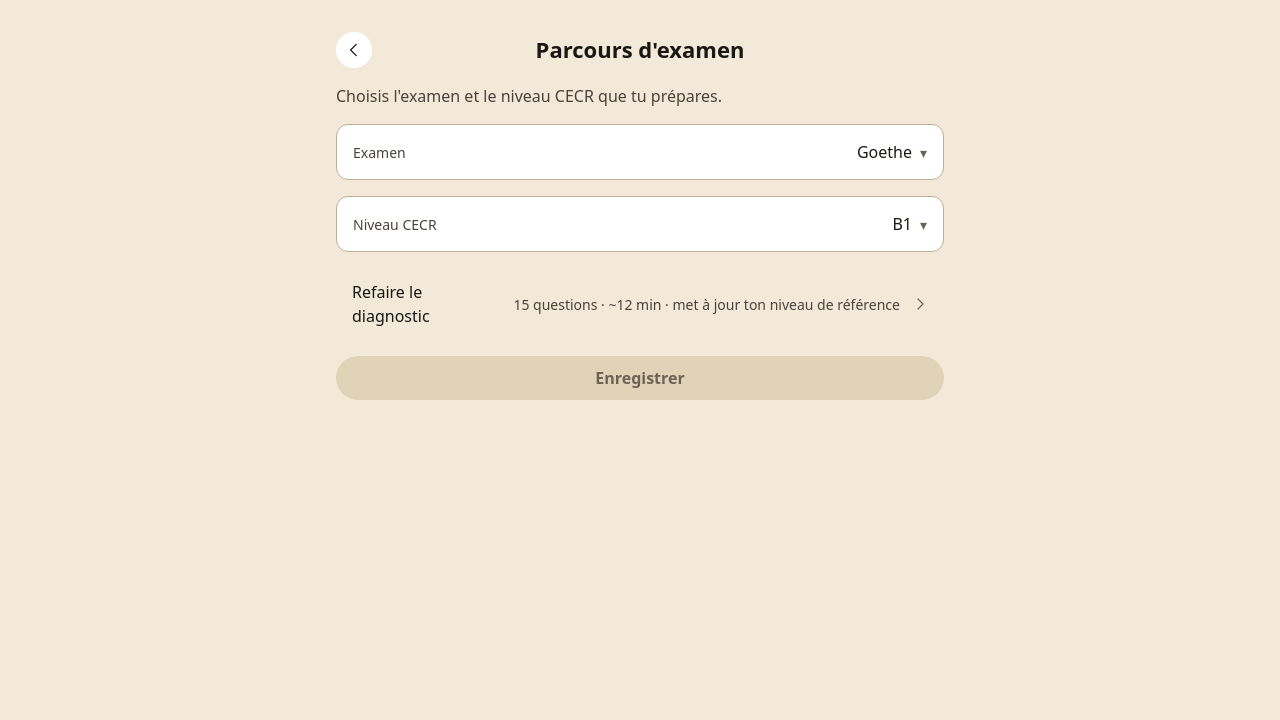
Test case: ExamTrackScreen (S11.6) › gates non-beta levels with the coming-soon caveat
The image size is (1280, 720).
Click the button with test id "settings-exam-level-trigger" at [395, 224], box x1=336 y1=196 x2=944 y2=252
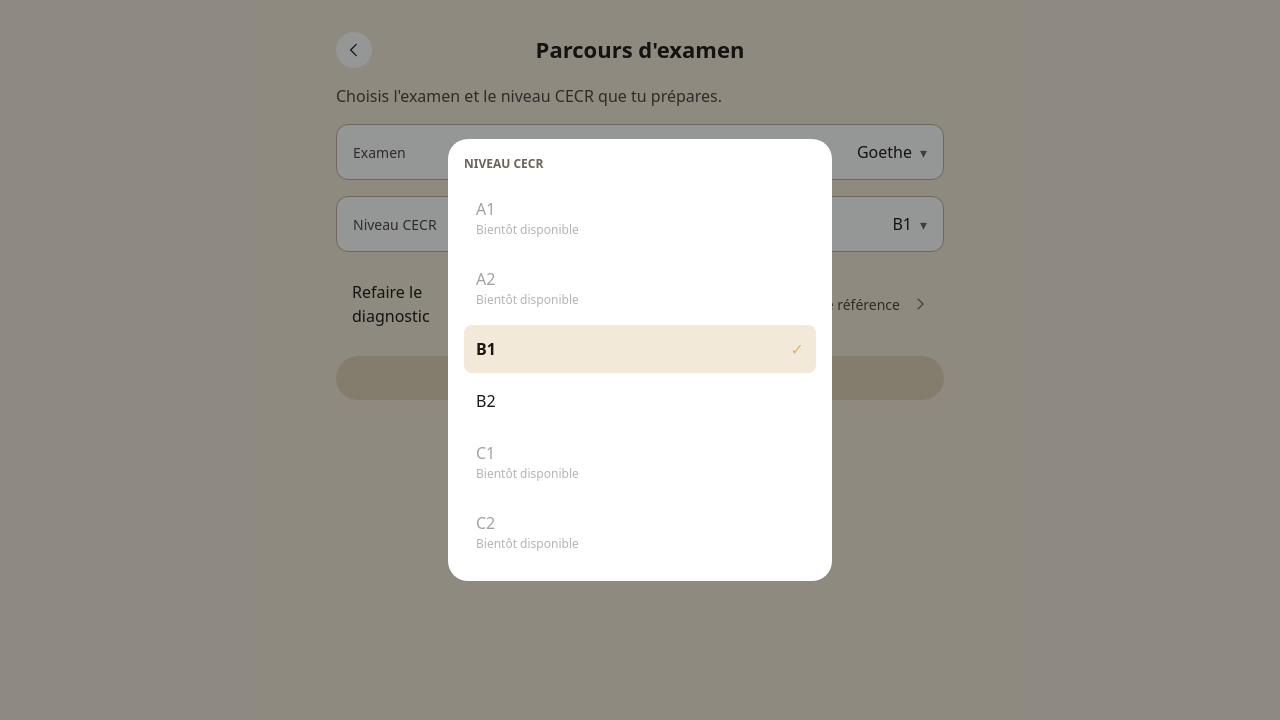
Now the radio button with test id "settings-exam-level-c1" is disabled, box x1=464 y1=429 x2=816 y2=495
Now the 1st text "Bientôt disponible" is shown, box x1=476 y1=221 x2=579 y2=238
Now the radio button with test id "settings-exam-level-b2" is enabled, box x1=464 y1=377 x2=816 y2=425
